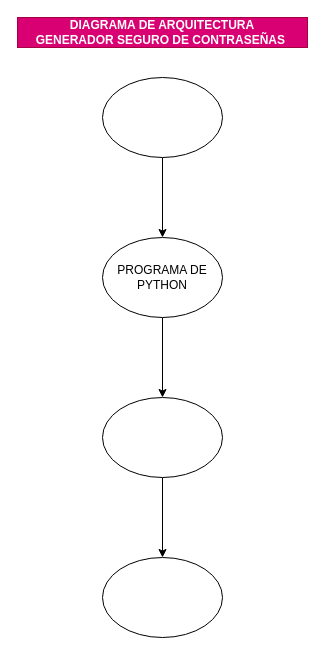
Some shapes in this 325 by 655 pixel diagram are drawn without their labels. The centre of each missing label's shape, as x and y in pixels:
"GENERADOR DE CONTRASEÑAS" goes at (x=162, y=437).
"USUARIO" goes at (x=162, y=117).
